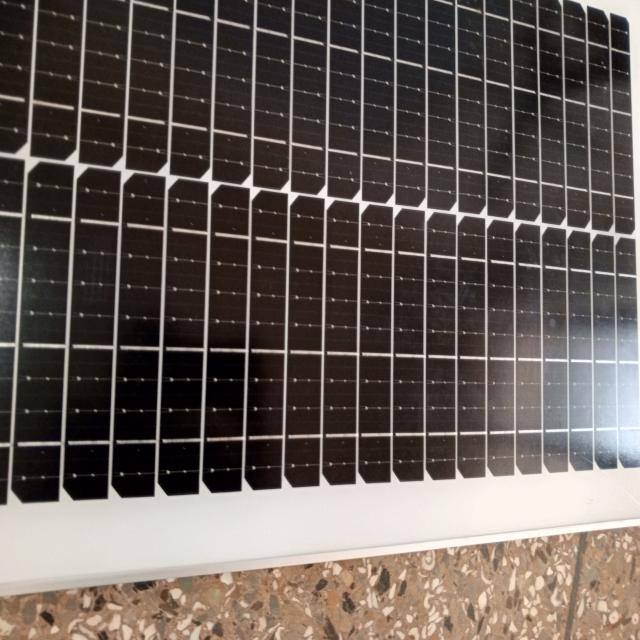Clean: (9, 6, 640, 491)
